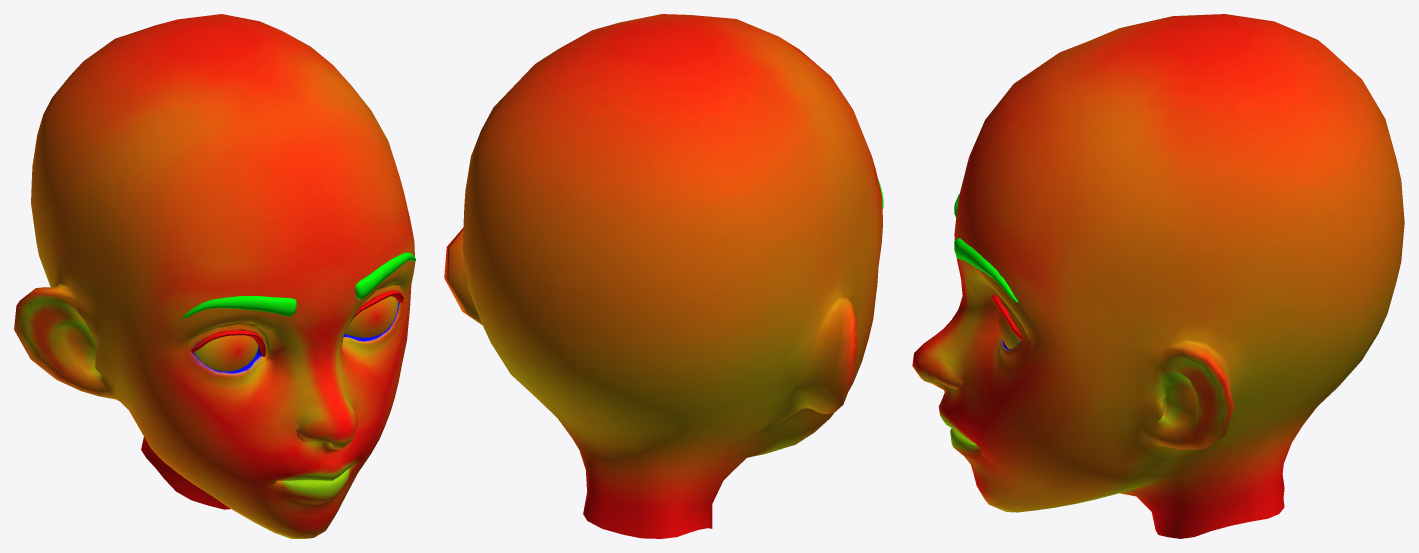
File: CombinedSkinnedMesh.obj
The picture shows the model from 3 angles, left to right: view 1: azimuth 30°, elevation 25°; view 2: azimuth 150°, elevation 25°; view 3: azimuth 270°, elevation 25°; orthographic projection. The views are drawn at different scales.
Parts seen in each view (by area): view 1: CombinedSkinnedMesh_0; view 2: CombinedSkinnedMesh_0; view 3: CombinedSkinnedMesh_0.
Part boxes in pixels (x1,y1,x2,y2): CombinedSkinnedMesh_0: [14, 14, 415, 538]; CombinedSkinnedMesh_0: [444, 14, 883, 538]; CombinedSkinnedMesh_0: [912, 14, 1404, 538].
Bounding box in the file's own units: 0.2218 × 0.2576 × 0.231.
1 material, 1 textured.
